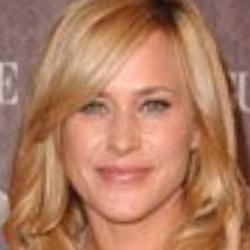face: (12, 2, 247, 229)
